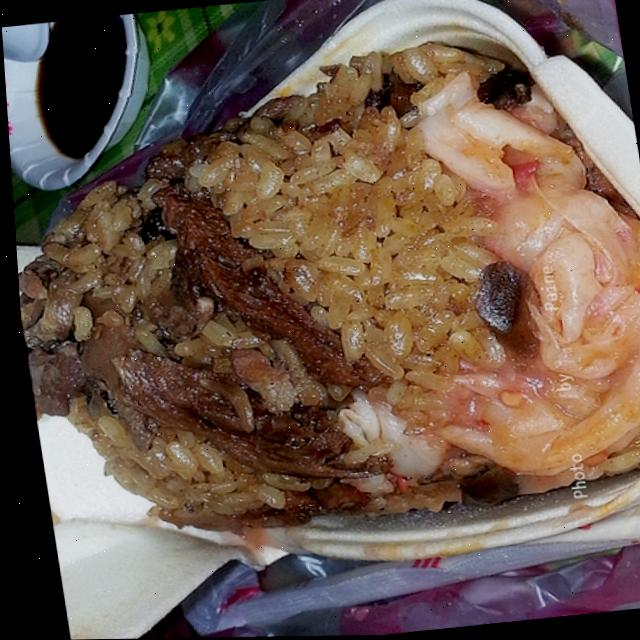米饭主食: (2, 23, 640, 584)
